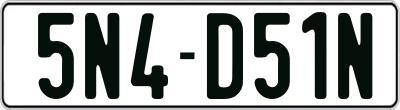1: (300, 9, 329, 101)
4: (128, 10, 170, 96)
5: (251, 10, 288, 101), (36, 10, 73, 96)
D: (205, 11, 243, 99)
N: (84, 13, 123, 104), (336, 13, 371, 102)
